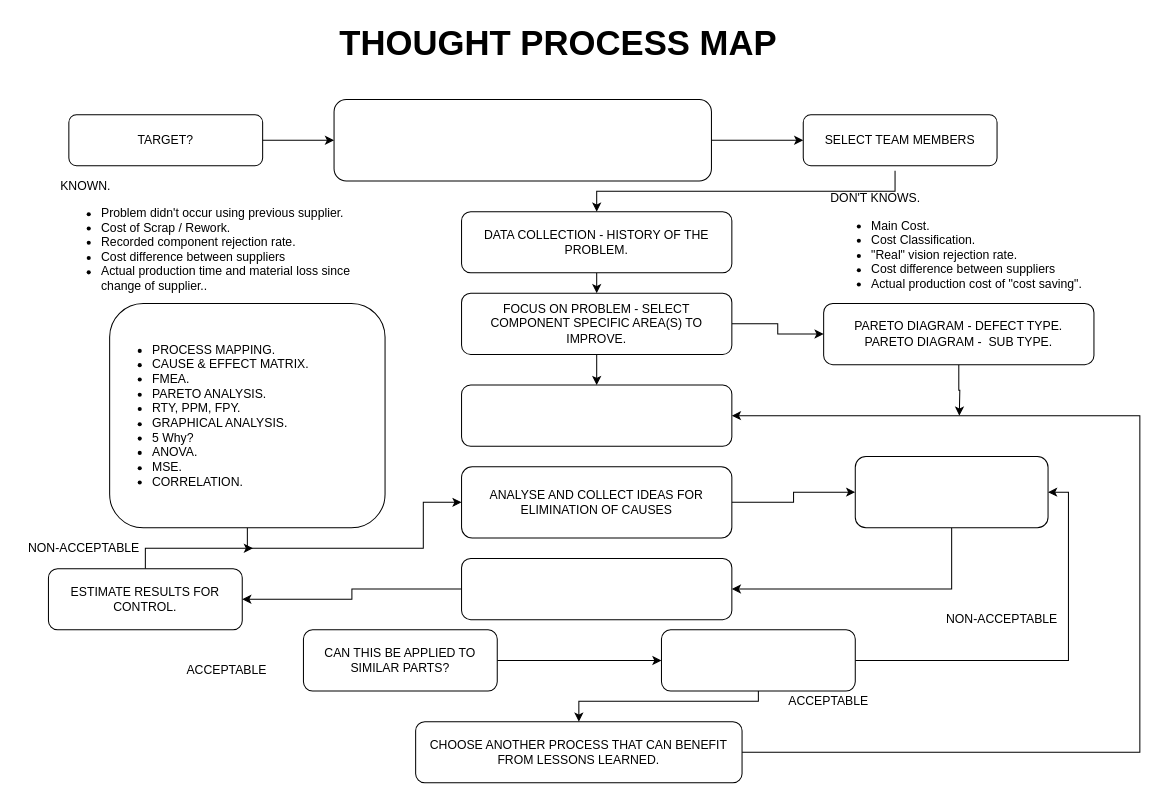
Some shapes in this 1166 by 801 pixel diagram are drawn without their labels. The centre of each missing label's shape, as x and y in pixels:
BRAINSTORMING. CAPABILITY STUDY. COMPARATIVE STUDY.: (951,491)
ESTIMATE RESULTS.: (757,660)
FOCUS ON PROBLEM - SELECT PROCESS SPECIFIC AREA(S) TO IMPROVE.: (596,415)
PLAN IMPLEMENTATION OF ACTIONS.: (596,588)
RETURN TO ACCEPTABLE DEFECT LIMITS. RETURN TO ACCEPTABLE COMPONENT REJECT RATES.: (522,139)
